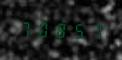eight: (52, 19, 68, 40)
five: (69, 20, 85, 40)
seven: (18, 18, 34, 39), (86, 20, 102, 41)
zero: (35, 19, 51, 39)
